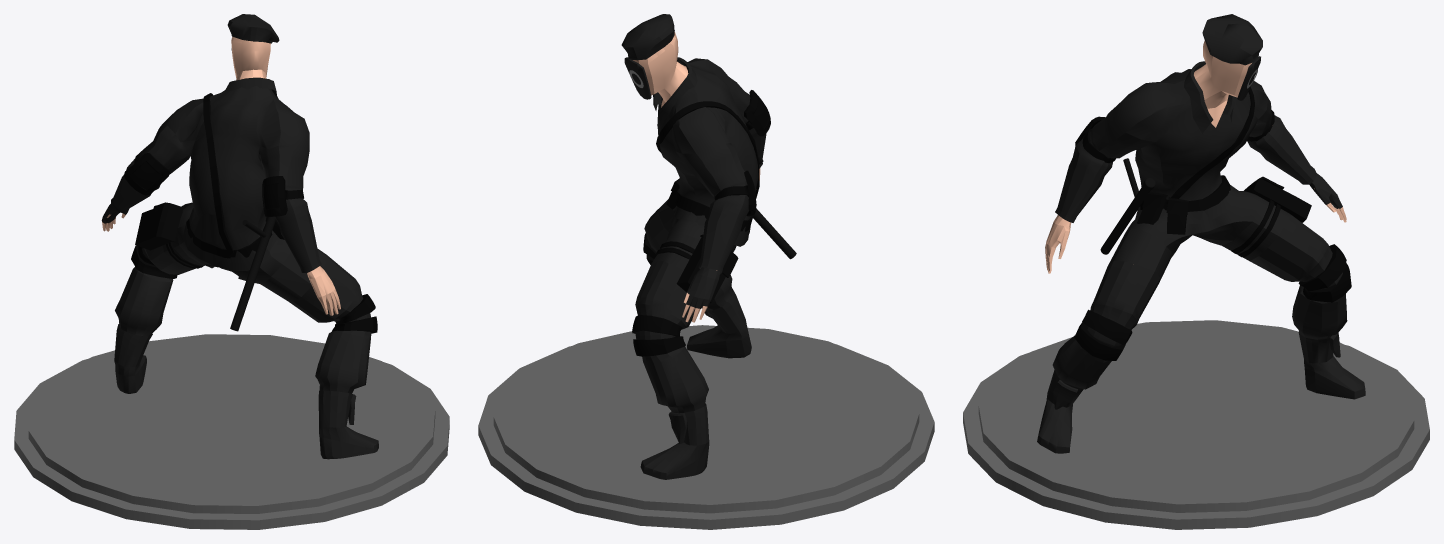
The model's file is Unit_Black.fbx.
3 views of the same model, side by side, from view 1: azimuth 30°, elevation 25°; view 2: azimuth 150°, elevation 25°; view 3: azimuth 270°, elevation 25° (orthographic). The views are drawn at different scales.
Parts seen in each view (by area): view 1: pCylinder16; view 2: pCylinder16; view 3: pCylinder16.
Part boxes in pixels (left/top/right/bottom): pCylinder16: left=14, top=14, right=449, bottom=529; pCylinder16: left=478, top=14, right=934, bottom=529; pCylinder16: left=963, top=14, right=1429, bottom=529.
Bounding box in the file's own units: 147 × 149 × 147.
